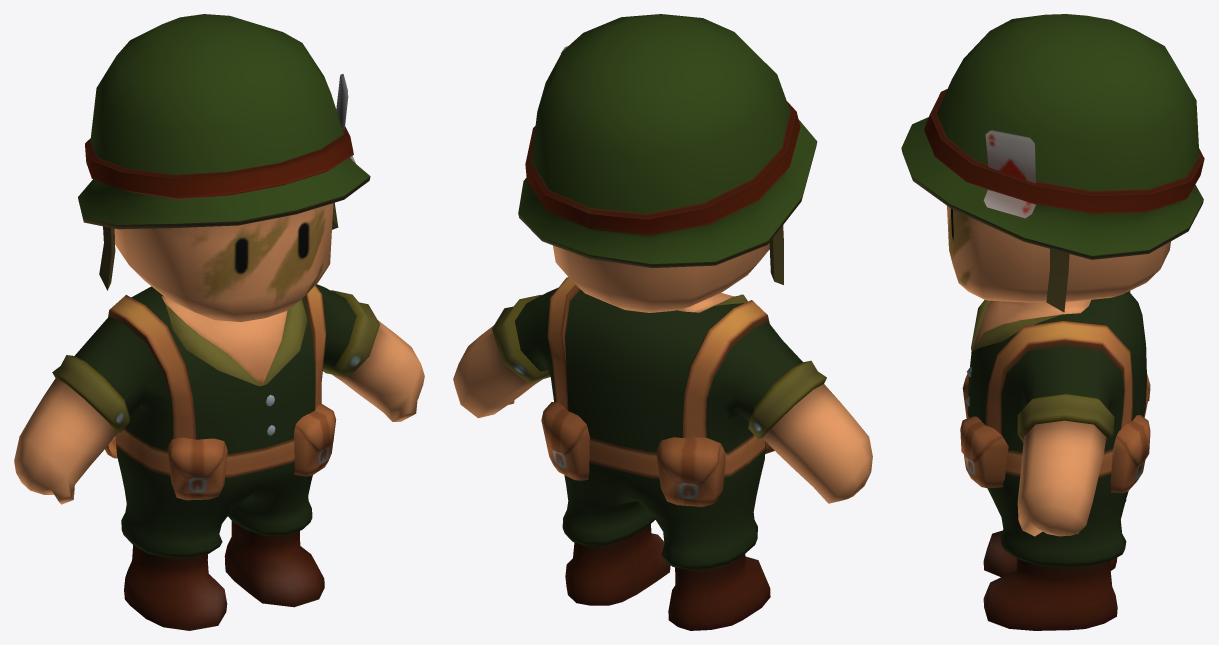
File: StumbleGreen.fbx
3 renders of one model, left to right at view 1: azimuth 30°, elevation 25°; view 2: azimuth 150°, elevation 25°; view 3: azimuth 270°, elevation 25°, orthographic. The views are drawn at different scales.
Parts seen in each view (by area): view 1: Player_SkinSoldier_003; view 2: Player_SkinSoldier_003; view 3: Player_SkinSoldier_003.
Part boxes in pixels (box(x1,y1,x2,y2)): Player_SkinSoldier_003: box(14, 14, 424, 630); Player_SkinSoldier_003: box(453, 14, 872, 630); Player_SkinSoldier_003: box(901, 14, 1204, 630).
Size of the model in its own units: 1.4 by 1.88 by 0.9168.
3 materials, 1 textured.
